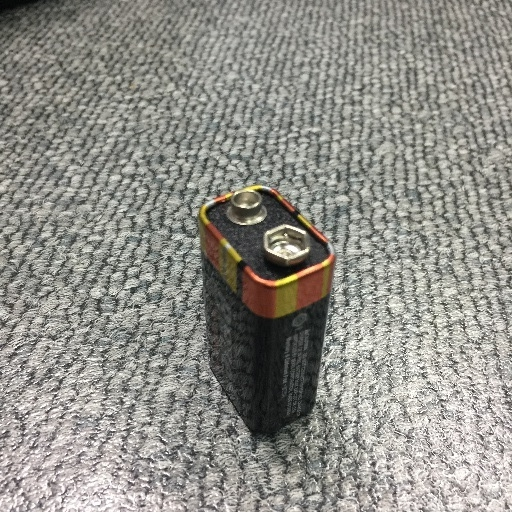Battery_3: (183, 166, 344, 454)
